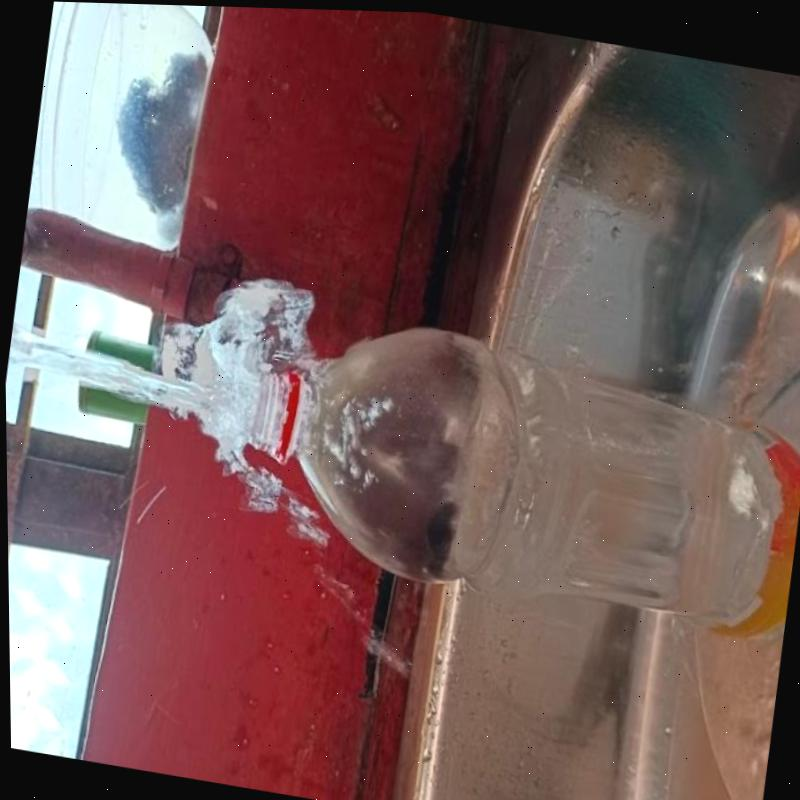botella: (225, 304, 800, 646)
